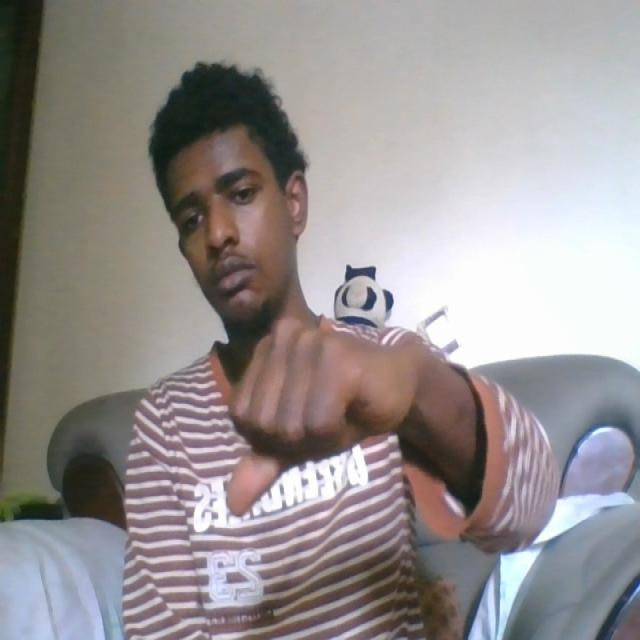injera: (216, 310, 416, 530)
